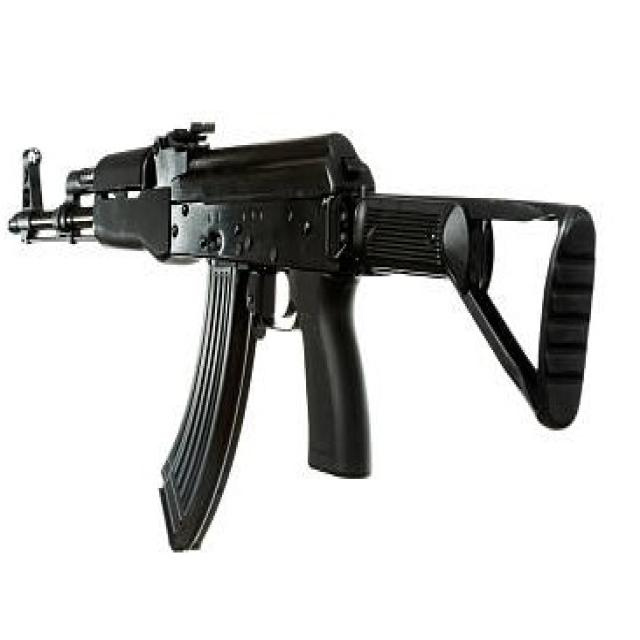rifle: (5, 113, 606, 568)
